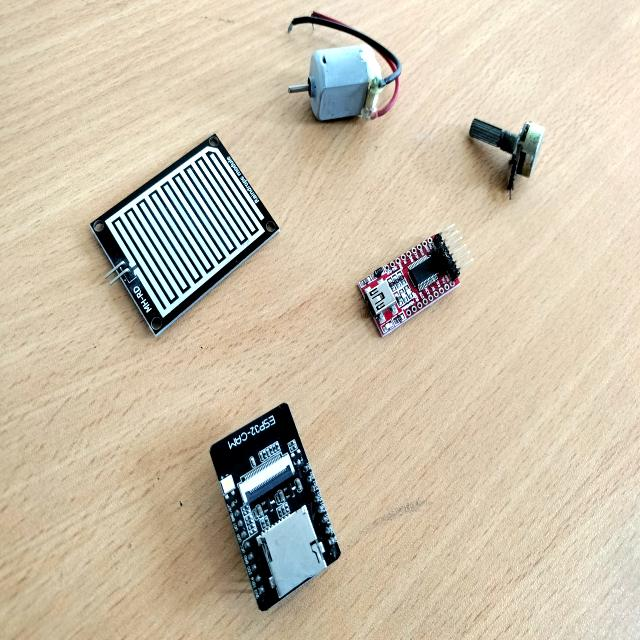DC-Motor: (279, 29, 391, 142)
ESP32-CAM: (194, 398, 357, 630)
FT-232-USB-Serial-Module: (346, 216, 480, 346)
Raindrops-Module: (69, 118, 289, 347)
Taper-Potentiometer: (459, 92, 556, 216)
